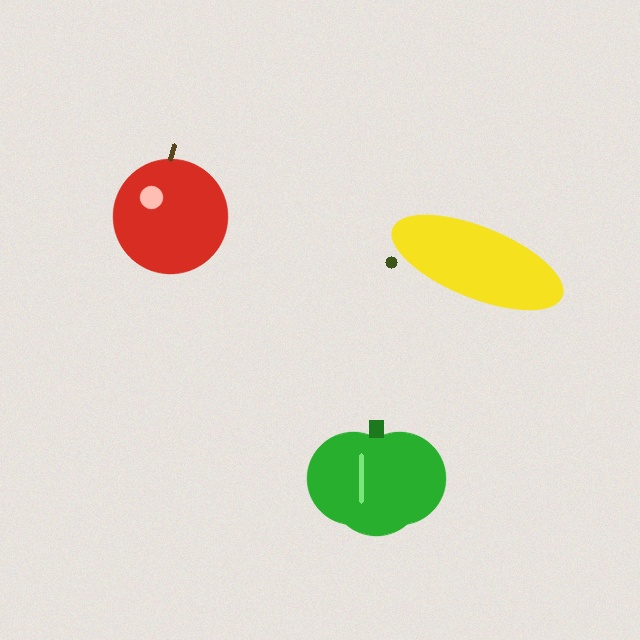Fresh apple: (113, 145, 227, 273)
Fresh banana: (382, 219, 572, 305)
Fresh bell pepper: (307, 420, 445, 535)
